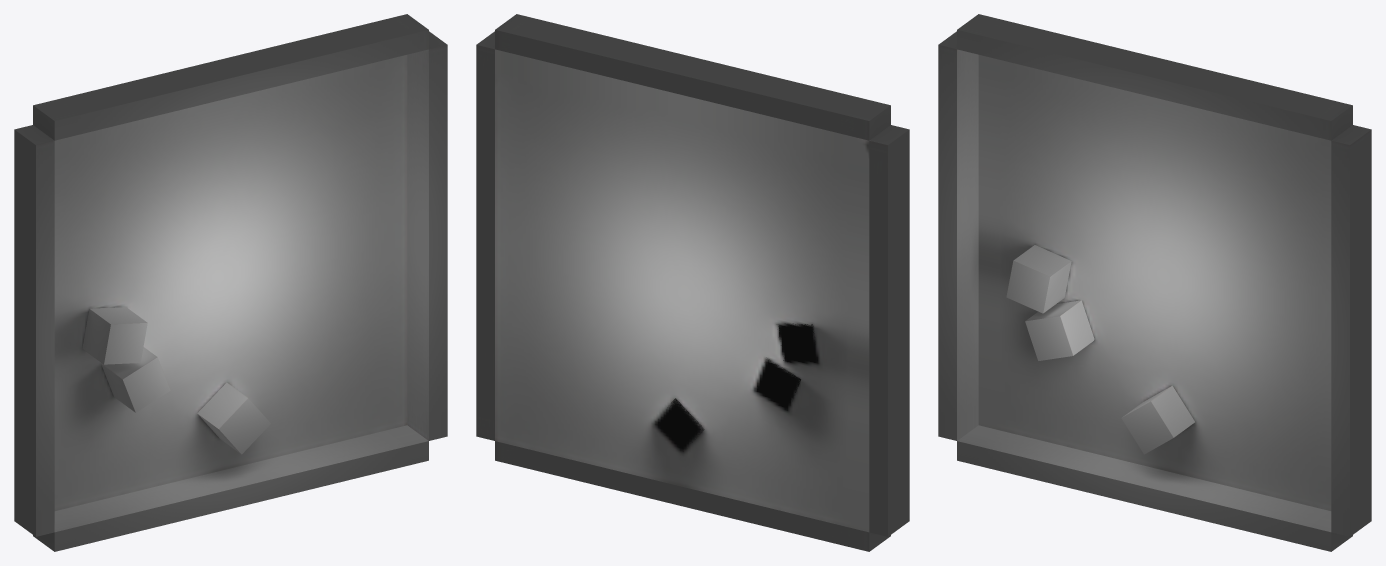
Rendered from LightRoom.gltf.
3 renders of one model, left to right at view 1: azimuth 30°, elevation 25°; view 2: azimuth 150°, elevation 25°; view 3: azimuth 330°, elevation 25°, orthographic.
Parts seen in each view (by area): view 1: Plane, WallNX, WallX, WallY, WallNY, Cube2, Cube3, Cube1; view 2: Plane, WallNX, WallY, WallNY, WallX; view 3: Plane, WallX, WallNX, WallY, WallNY, Cube2, Cube1, Cube3.
Part boxes in pixels (bbox=[...]): Plane: bbox=[54, 55, 407, 510]; WallNX: bbox=[14, 125, 54, 536]; WallX: bbox=[407, 31, 447, 440]; WallY: bbox=[33, 14, 428, 140]; WallNY: bbox=[33, 425, 428, 551]; Cube2: bbox=[82, 307, 147, 364]; Cube3: bbox=[197, 382, 270, 454]; Cube1: bbox=[101, 347, 170, 412]; Plane: bbox=[495, 49, 869, 532]; WallNX: bbox=[869, 125, 909, 536]; WallY: bbox=[495, 14, 890, 140]; WallNY: bbox=[495, 441, 890, 551]; WallX: bbox=[476, 31, 494, 440]; Plane: bbox=[978, 55, 1331, 510]; WallX: bbox=[1331, 125, 1371, 536]; WallNX: bbox=[938, 31, 978, 440]; WallY: bbox=[957, 14, 1352, 140]; WallNY: bbox=[957, 425, 1352, 551]; Cube2: bbox=[1006, 245, 1071, 313]; Cube1: bbox=[1025, 300, 1094, 360]; Cube3: bbox=[1121, 385, 1194, 454].
Bounding box in the file's own units: 22 × 22 × 2.
Materials: 1 (1 with a texture image).
